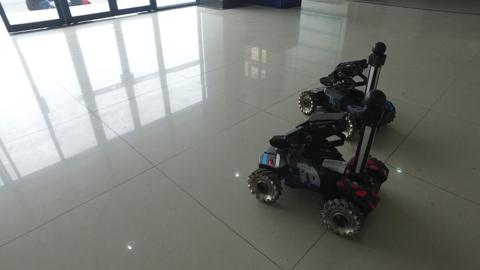chariot: (239, 94, 392, 238), (292, 36, 405, 147)
